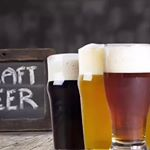other: (100, 42, 149, 150)
